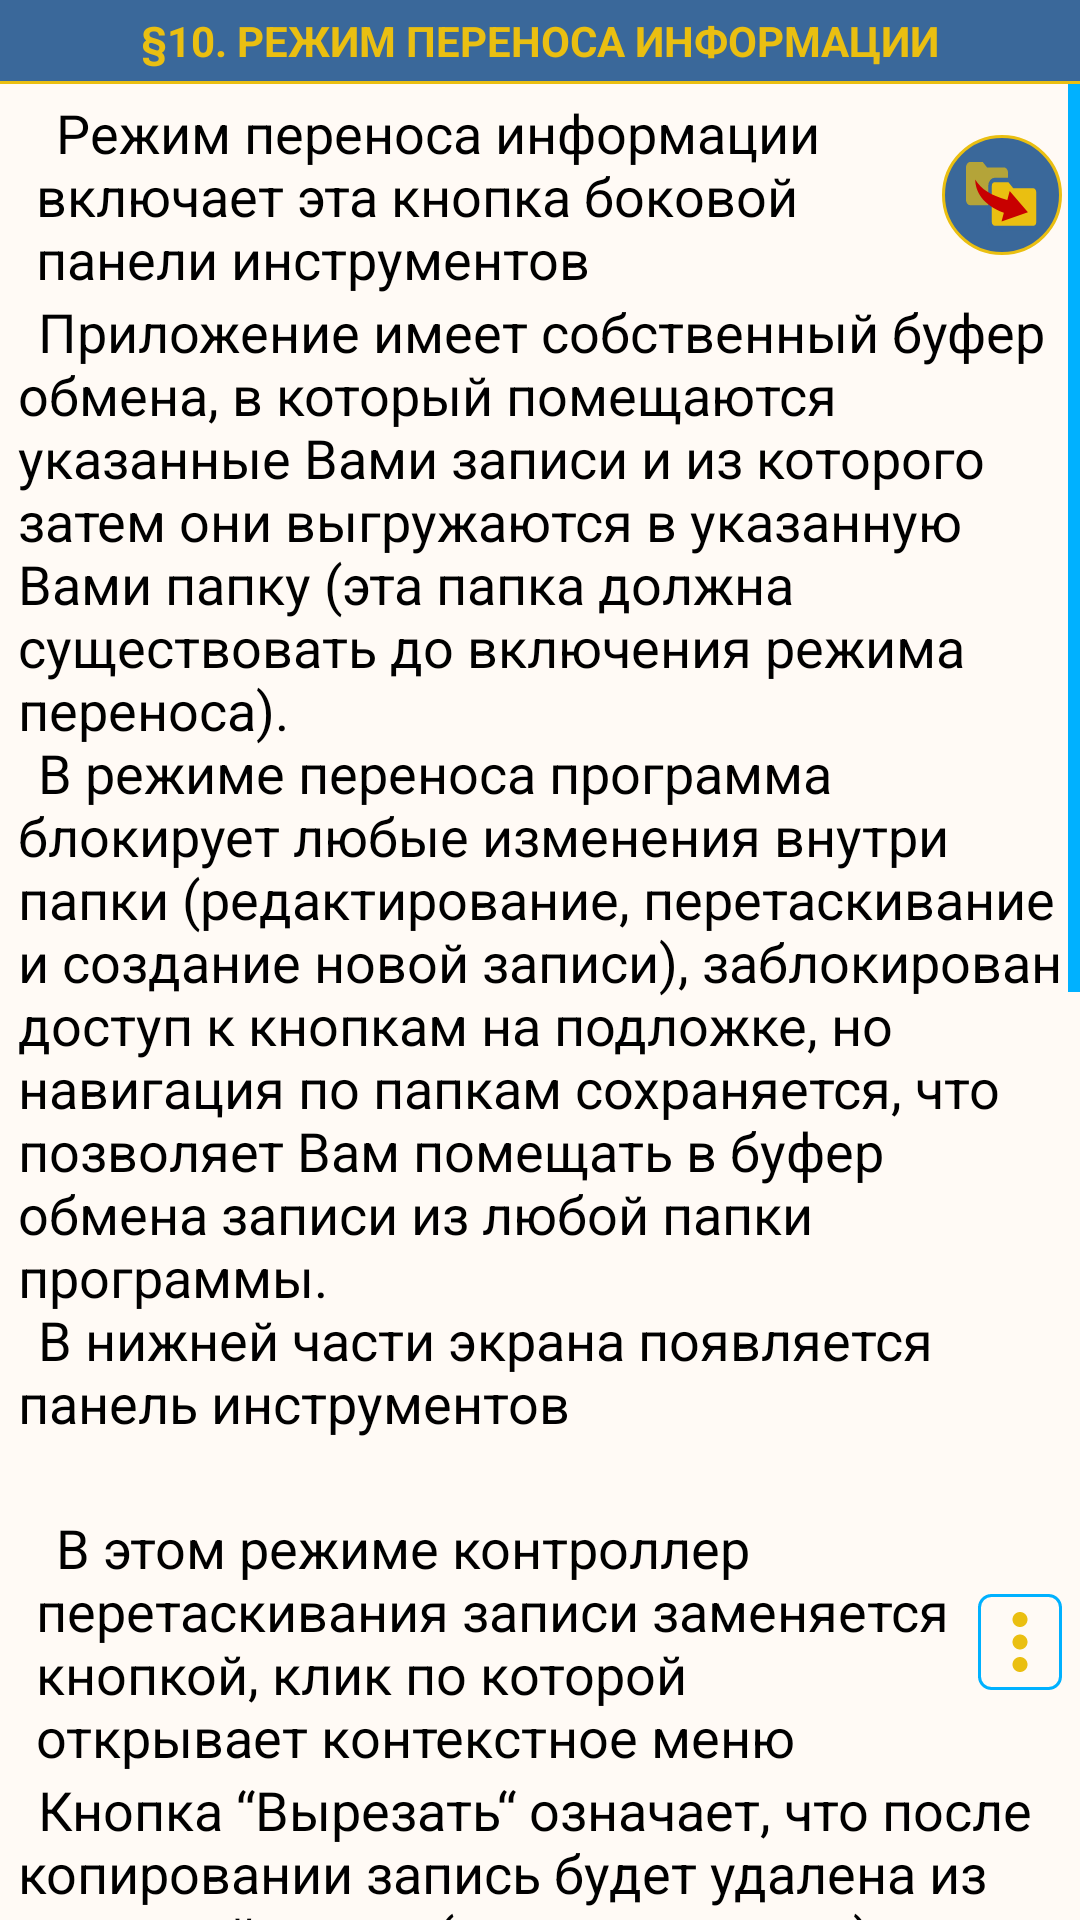

Icons on this 1080 x 1920 Android screen, each with the point to tap as (x=x, y=y):
menu: (x=1020, y=1642)
move mode: (x=1002, y=195)
